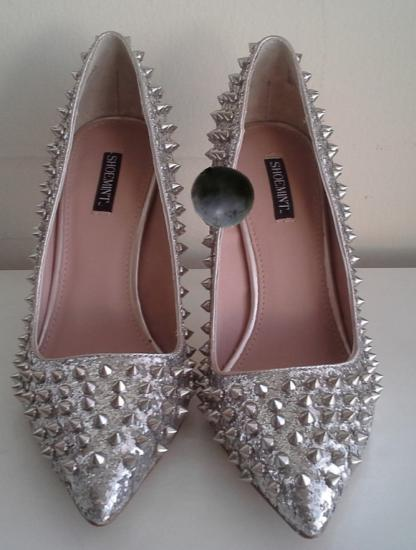Plum: (191, 164, 256, 229)
